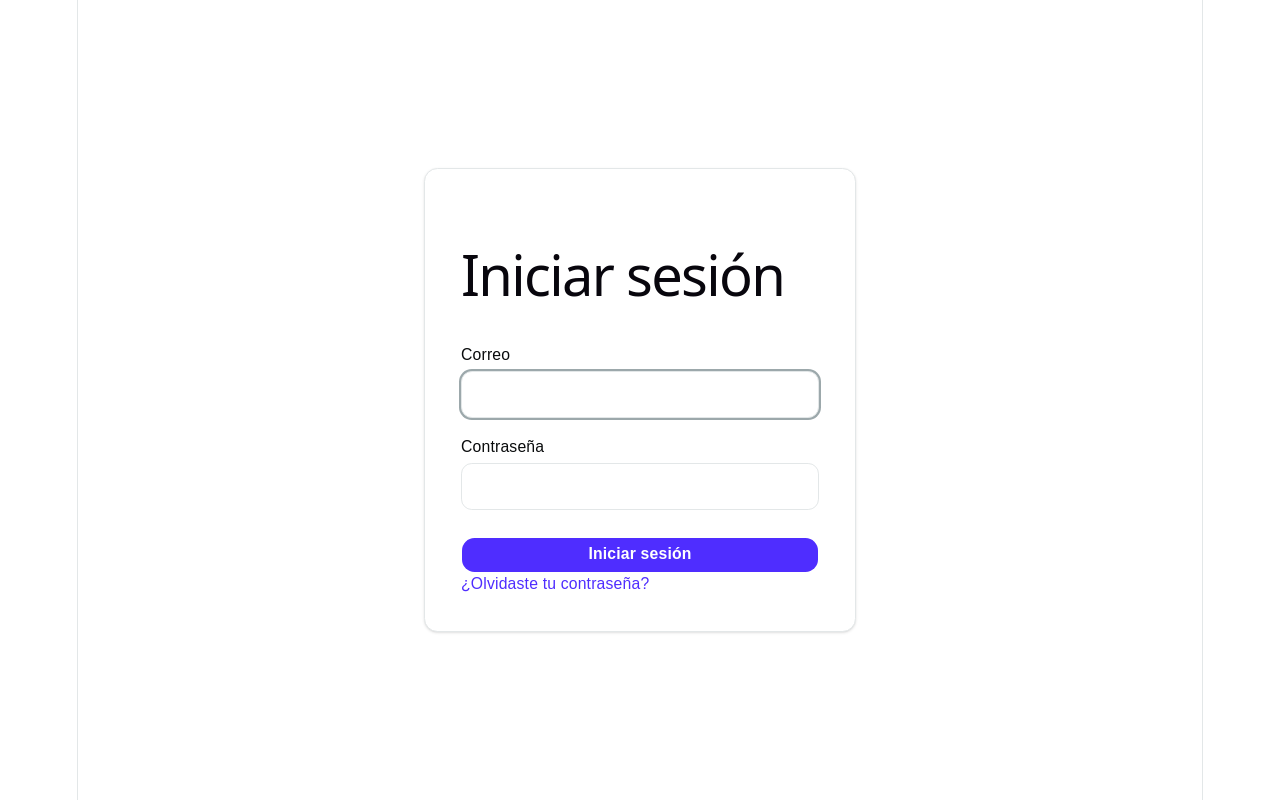
Scenario: LoginPage — validación de experiencia › rechaza un correo mal formado
Type "no-es-correo" into the field labelled "Correo" at [640, 394], box [461,371,819,418]
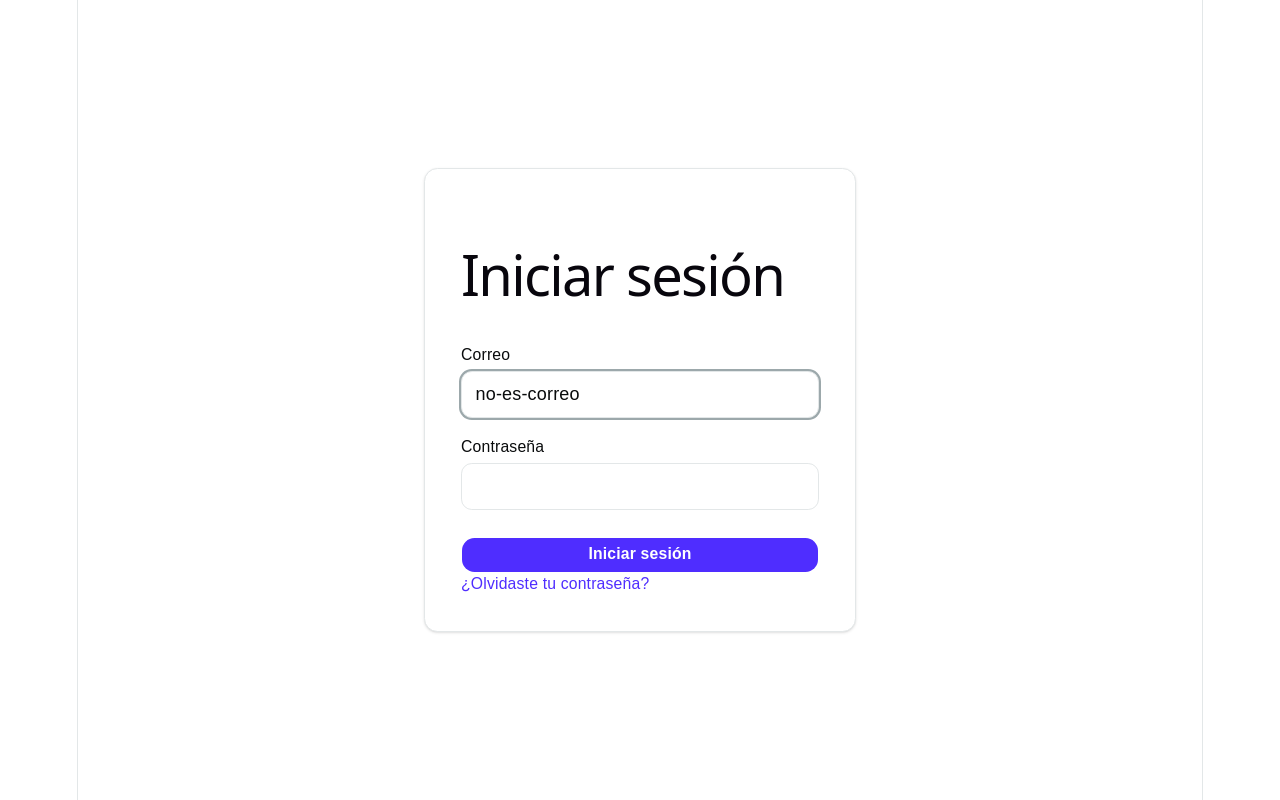
Type "secreto123" into the password field labelled "Contraseña" at [640, 486], box [461,463,819,510]
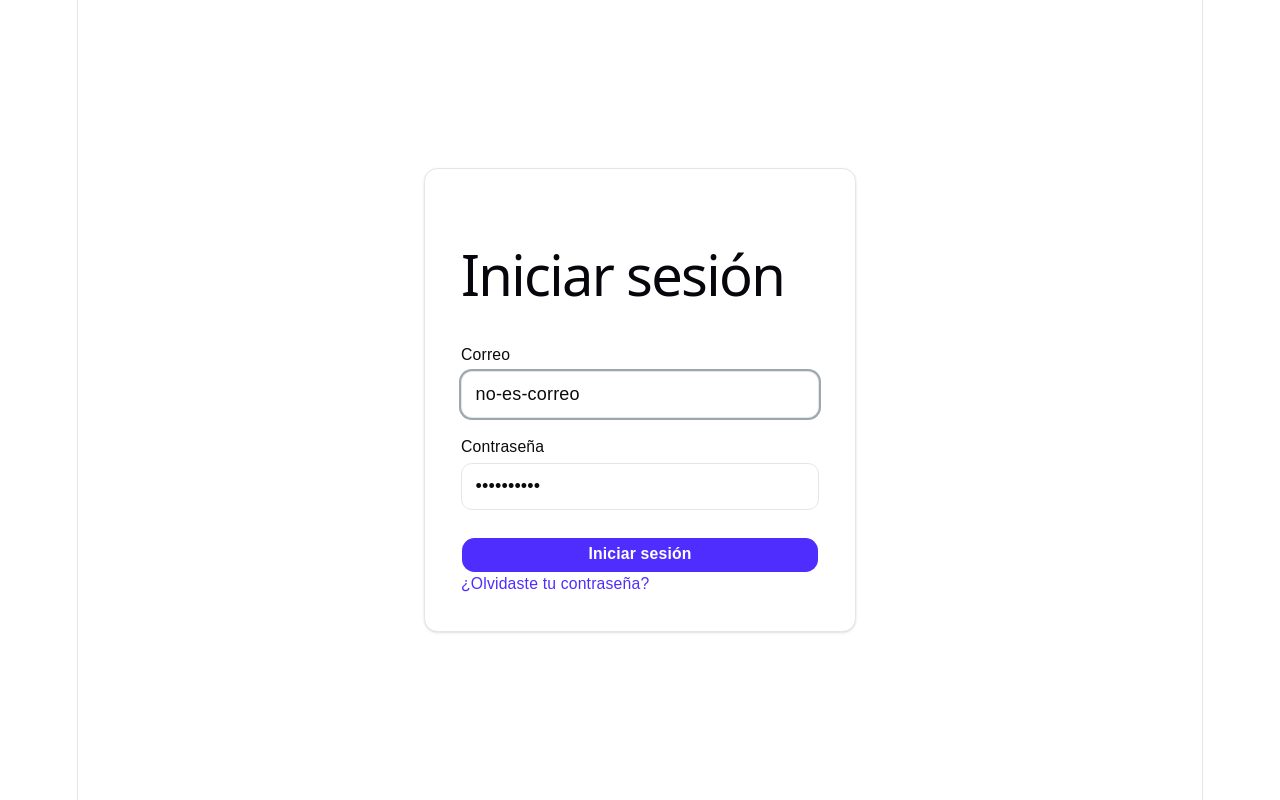
Click the button "Iniciar sesión" at [640, 555], box [461,537,819,573]
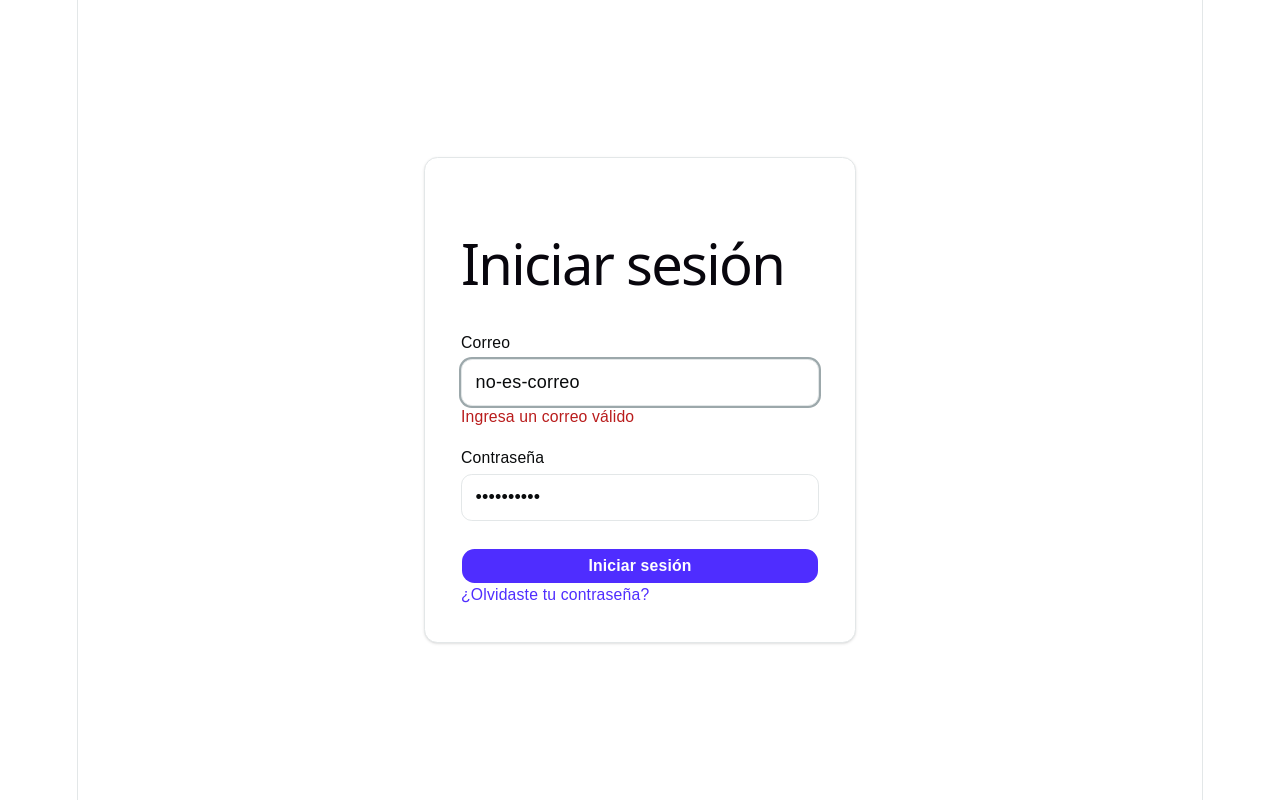
Expected: the text "Ingresa un correo válido" is shown, [461,408,634,425]
